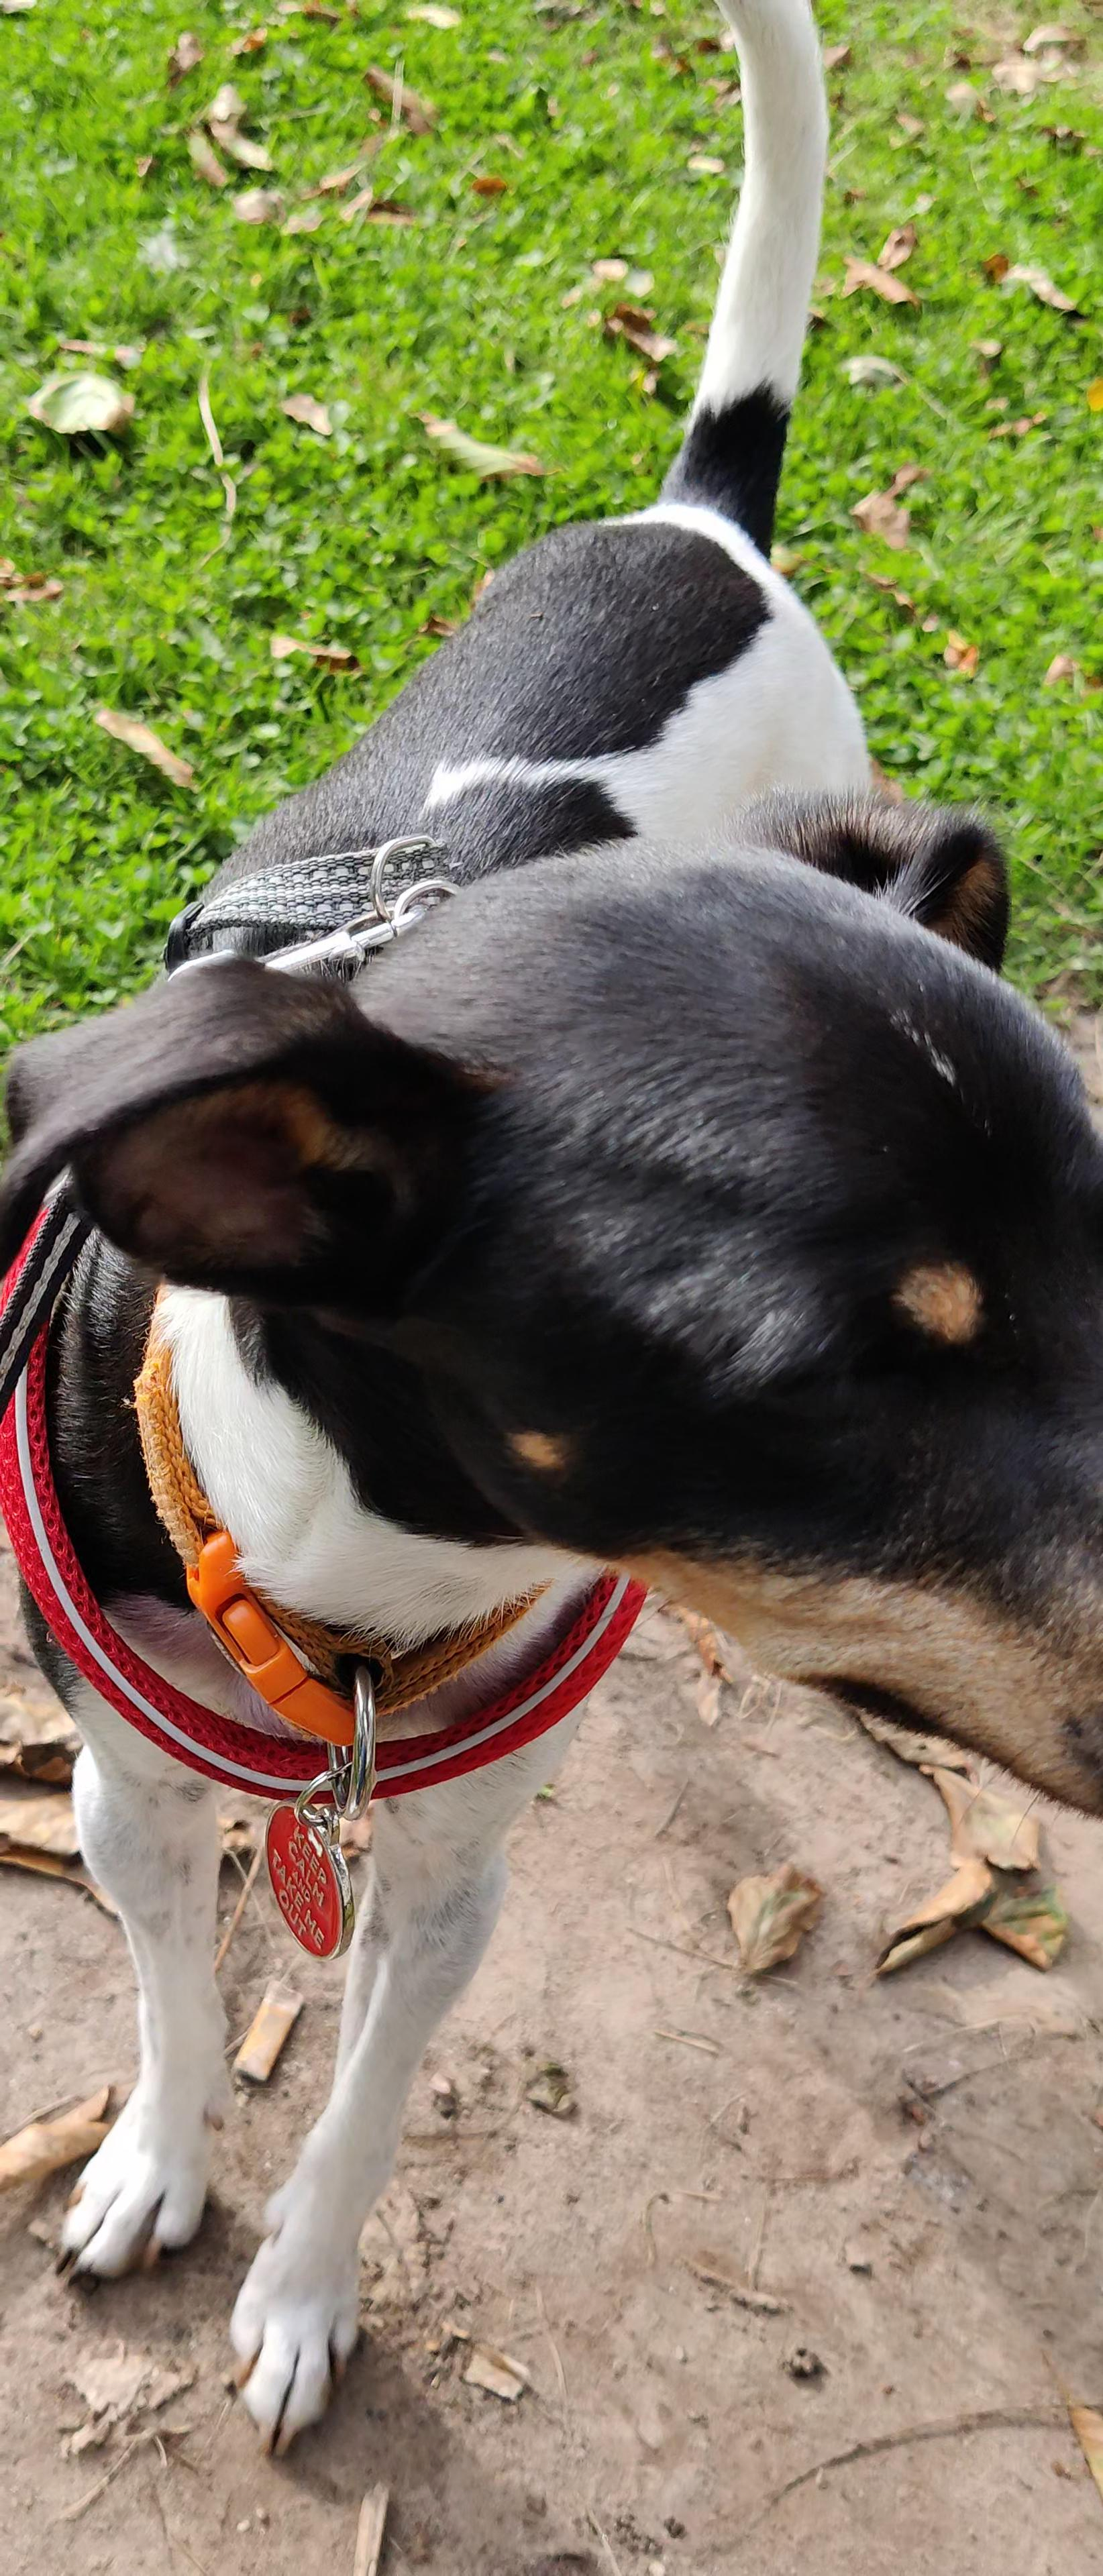Dog: (0, 0, 1103, 2466)
